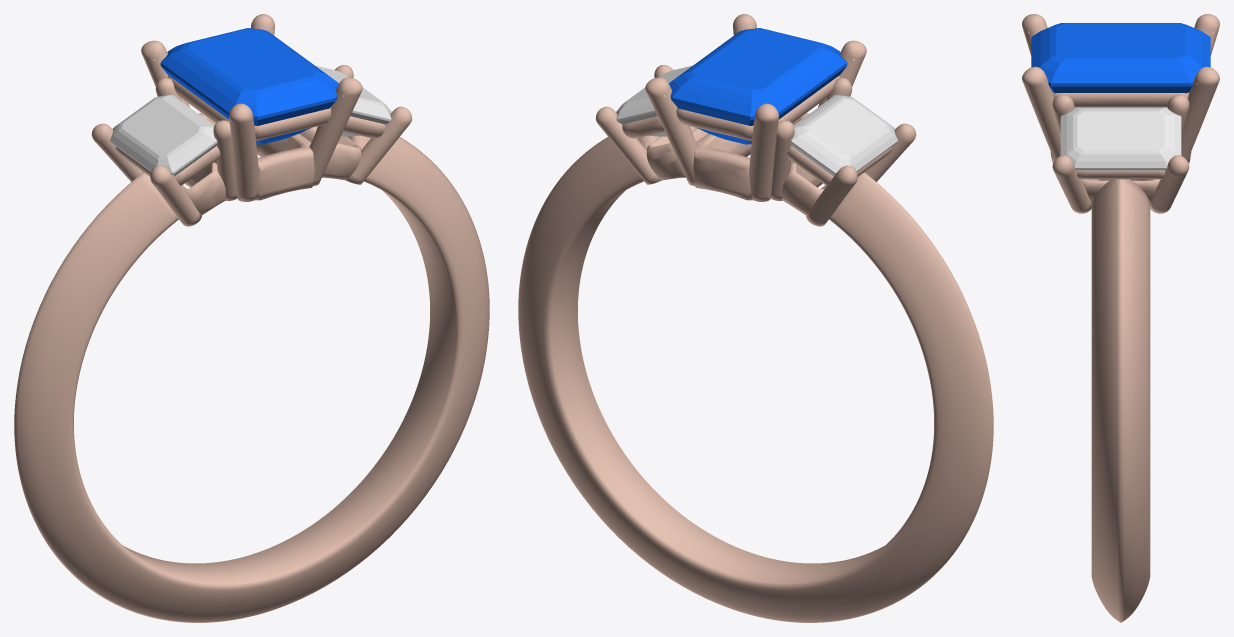
Rendered from bluesapphire-emerald-rosegold-4prong-knifeedge-3stone.glb.
3 renders of one model, left to right at view 1: azimuth 30°, elevation 25°; view 2: azimuth 150°, elevation 25°; view 3: azimuth 270°, elevation 25°, orthographic.
Visible parts, largest first — view 1: metal, stone, side, side.007; view 2: metal, stone, side, side.007; view 3: metal, stone, side.007.
Boxes of the visible parts, box(x1,y1,x2,y2) form: metal: box(14, 14, 489, 622); stone: box(160, 28, 338, 144); side: box(110, 95, 217, 175); side.007: box(315, 65, 391, 136); metal: box(518, 14, 993, 622); stone: box(669, 28, 847, 144); side: box(790, 95, 897, 175); side.007: box(616, 65, 692, 136); metal: box(1022, 14, 1219, 622); stone: box(1031, 23, 1210, 93); side.007: box(1060, 107, 1181, 170).
Size of the model in its own units: 20.5 by 22.94 by 7.4.
